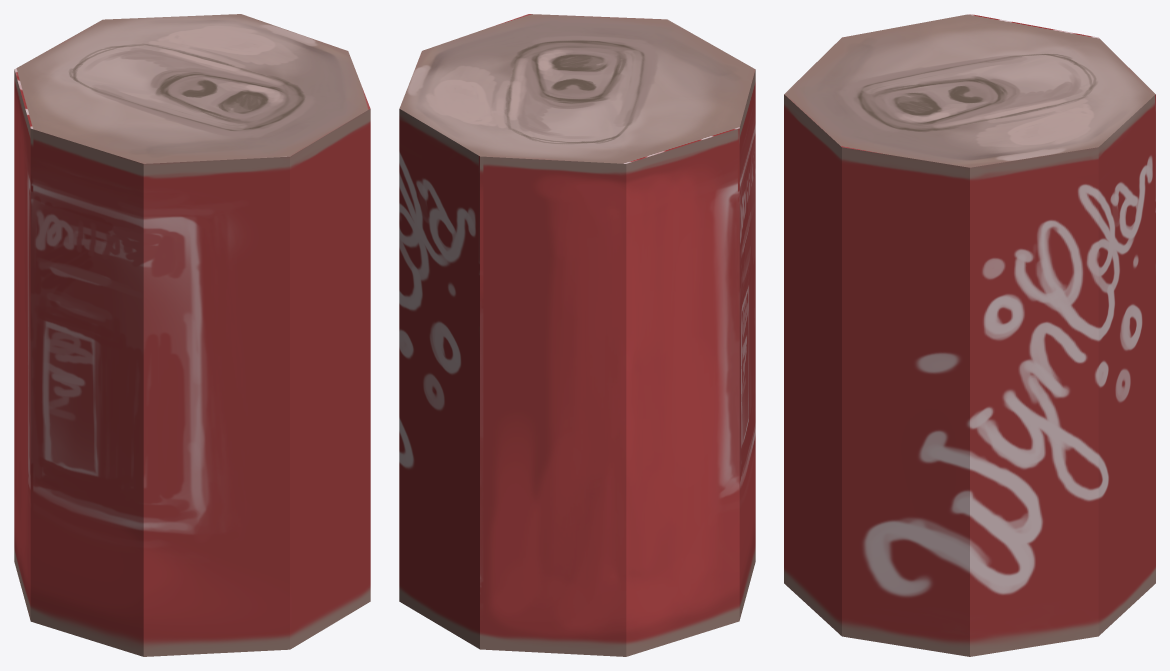
The model's file is Can.fbx.
The picture shows the model from 3 angles, left to right: view 1: azimuth 30°, elevation 25°; view 2: azimuth 150°, elevation 25°; view 3: azimuth 270°, elevation 25°; orthographic projection.
Parts seen in each view (by area): view 1: Can; view 2: Can; view 3: Can.
Boxes of the visible parts, bbox=[...] form: Can: bbox=[14, 14, 370, 656]; Can: bbox=[399, 14, 755, 656]; Can: bbox=[784, 14, 1155, 656].
Bounding box in the file's own units: 11.64 × 17.28 × 11.9.
